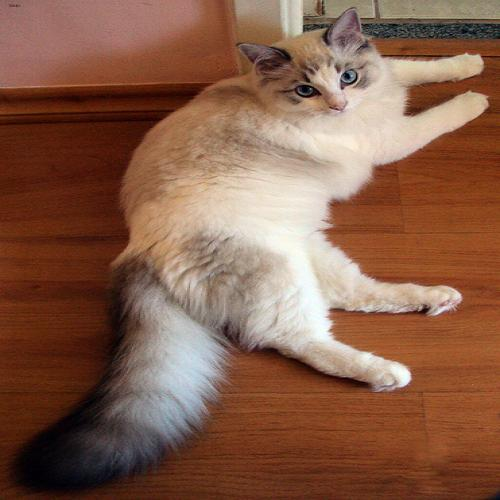ragdoll: (224, 7, 418, 133)
